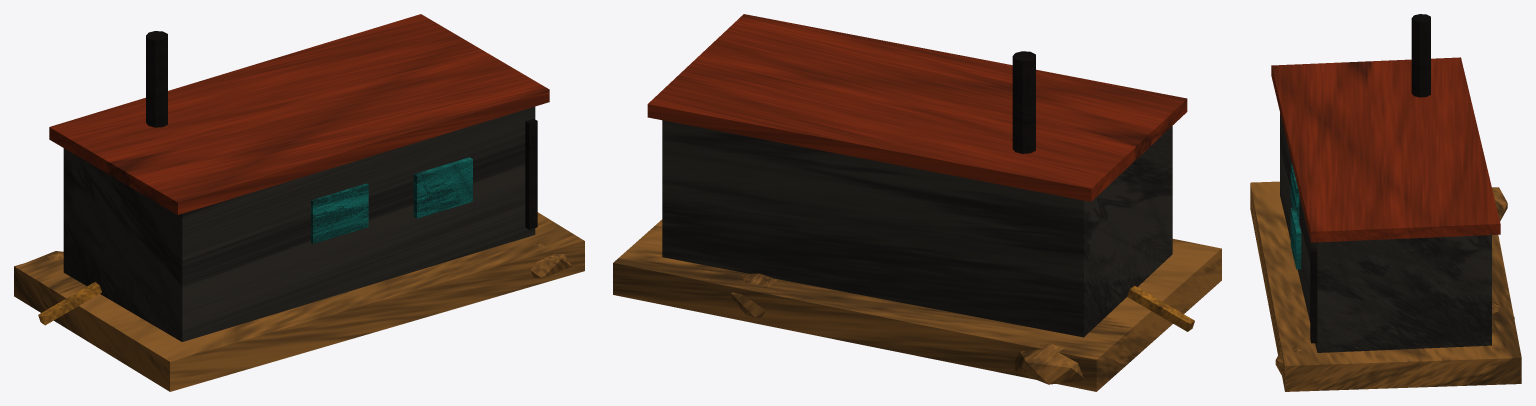
Rendered from half-buried-sleeper.glb.
3 views of the same model, side by side, from view 1: azimuth 30°, elevation 25°; view 2: azimuth 150°, elevation 25°; view 3: azimuth 270°, elevation 25° (orthographic). The views are drawn at different scales.
Parts seen in each view (by area): view 1: half-buried-sleeper; view 2: half-buried-sleeper; view 3: half-buried-sleeper.
Boxes of the visible parts, bbox=[...] form: half-buried-sleeper: bbox=[14, 14, 584, 391]; half-buried-sleeper: bbox=[613, 14, 1221, 391]; half-buried-sleeper: bbox=[1250, 14, 1521, 391].
Bounding box in the file's own units: 9.8 × 5.14 × 5.49.
1 material, 1 textured.
